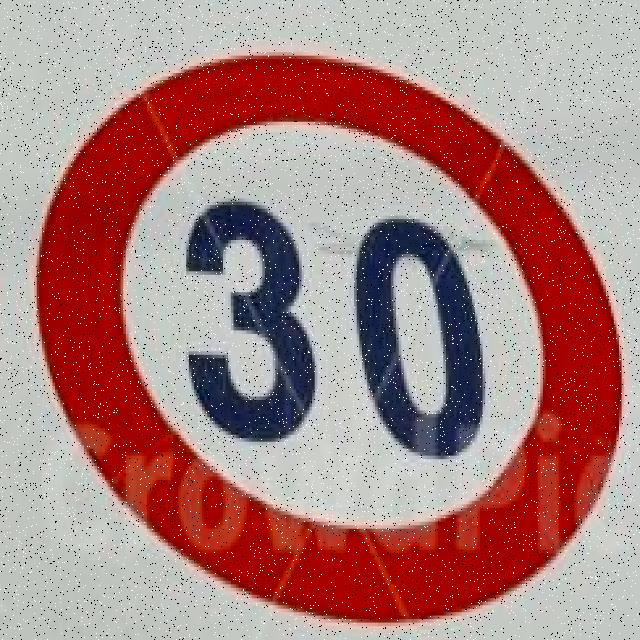Ograniczenie predkosci do 30: (36, 45, 622, 626)
